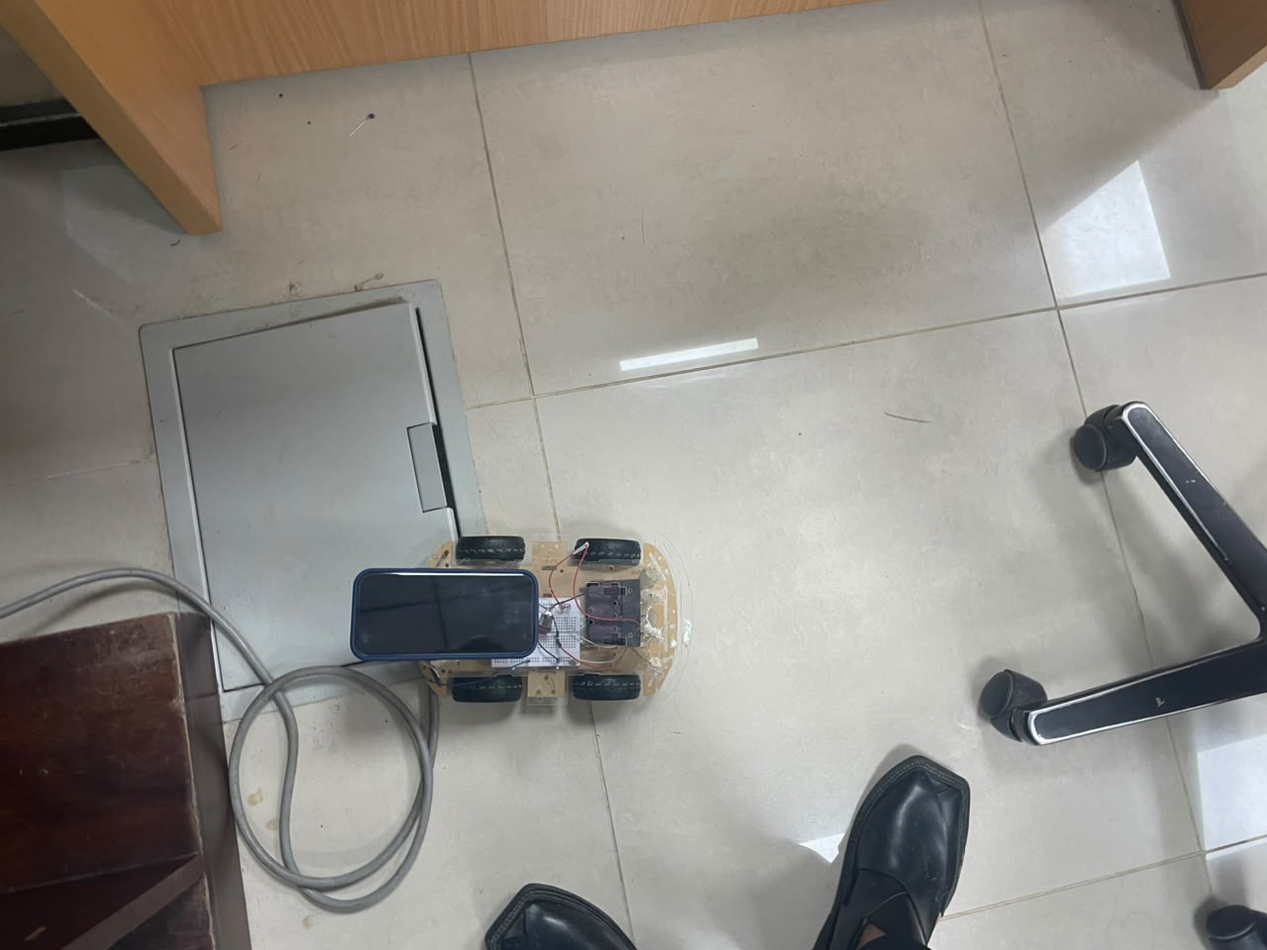Rover-detection: (349, 533, 691, 708)
